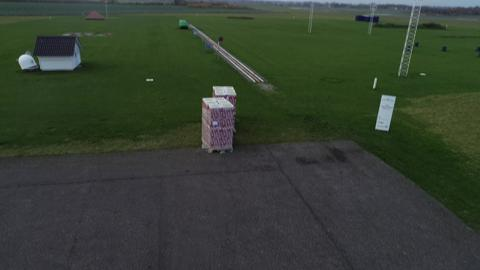RockwoolPallet: (212, 83, 237, 117)
